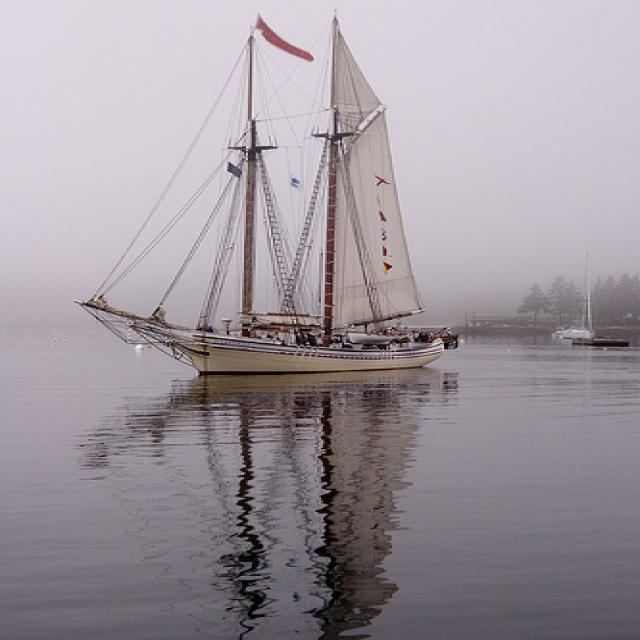Ship: (78, 20, 468, 384)
